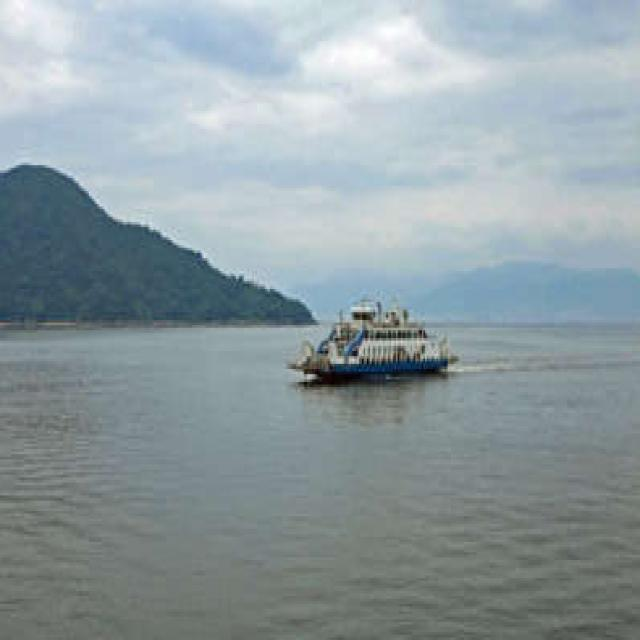passenger ship: (289, 283, 449, 377)
